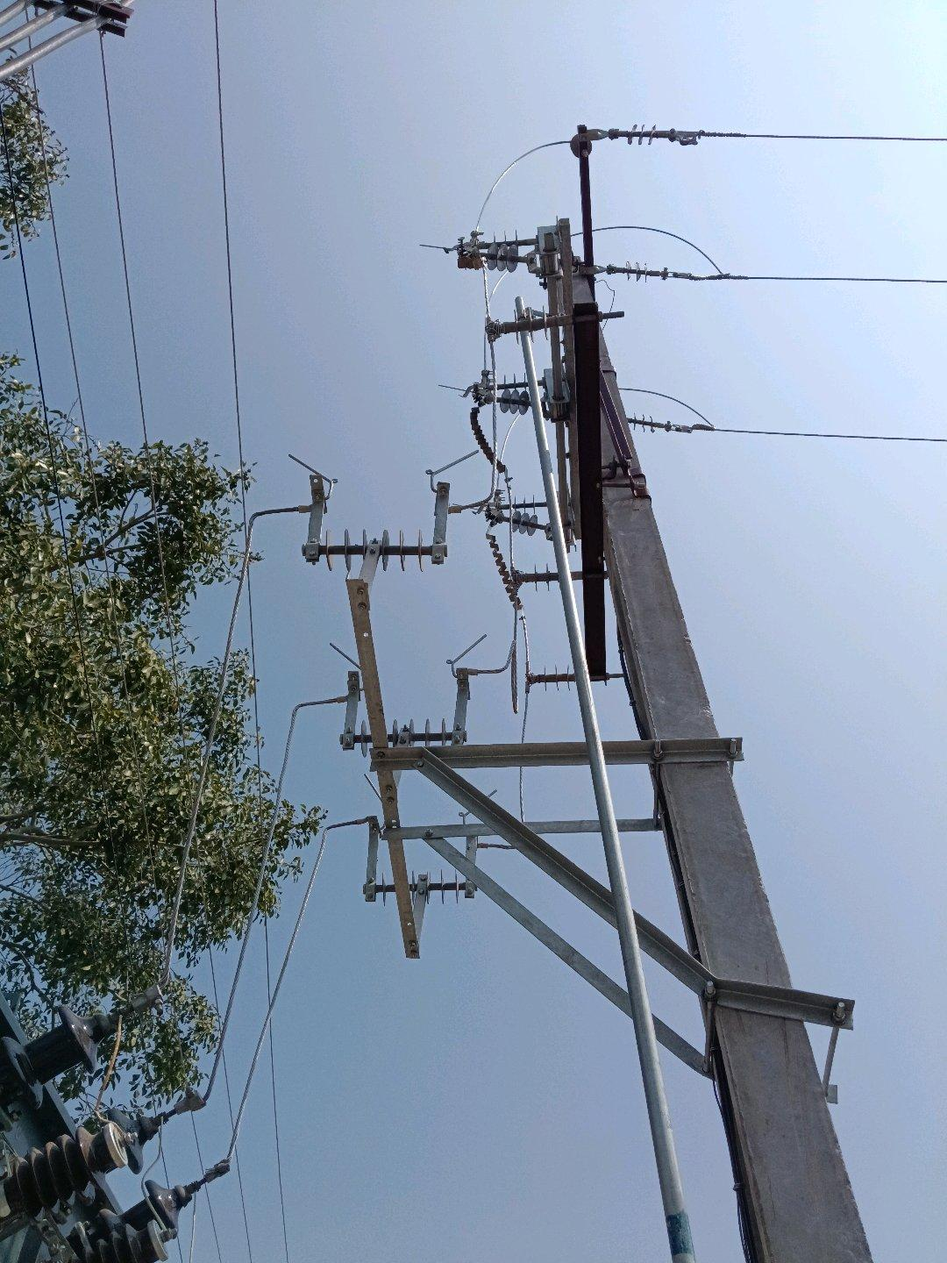{"0" "insulator", "1" "pole", "2" "crossarm", "3" "conductor", "4" "street_: (487, 127, 946, 739), (712, 1007, 864, 1262), (655, 769, 789, 986), (456, 234, 535, 271), (801, 278, 922, 284), (606, 267, 658, 279), (779, 278, 800, 283), (721, 275, 732, 282), (662, 273, 673, 280), (559, 574, 564, 589), (691, 276, 702, 282), (514, 159, 523, 165), (756, 278, 769, 282), (737, 277, 746, 282), (677, 276, 687, 280), (924, 280, 933, 284), (706, 276, 711, 281), (713, 275, 717, 281), (862, 1253, 865, 1257), (530, 396, 532, 401), (773, 278, 776, 281), (751, 278, 754, 281), (563, 547, 565, 551), (866, 1259, 868, 1262), (618, 315, 620, 318), (574, 672, 575, 676), (530, 404, 531, 408)
